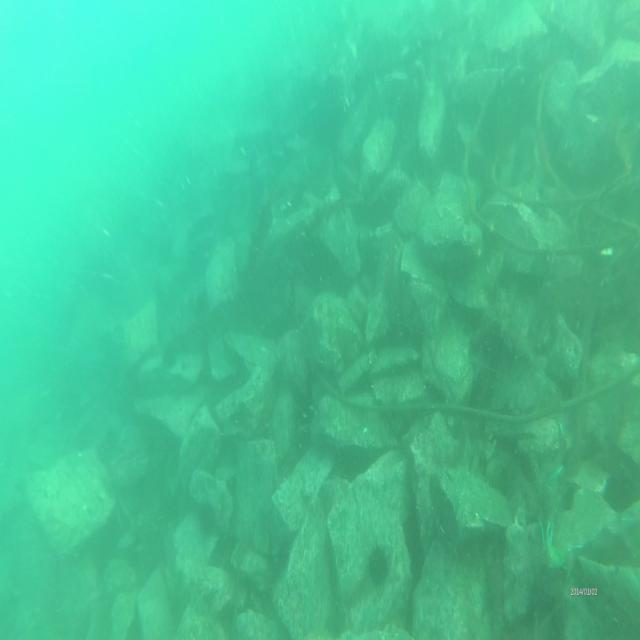echinus: (367, 538, 391, 585)
